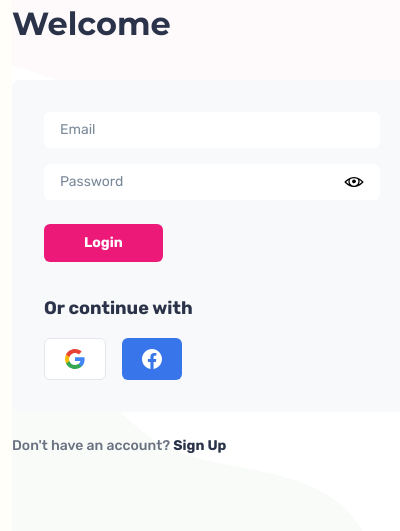
Test: Login Flow › shows alert on invalid credentials
In the field with placeholder "Email": x=212, y=130 x1=44 y1=112 x2=380 y2=148, type "wrong@test.com"
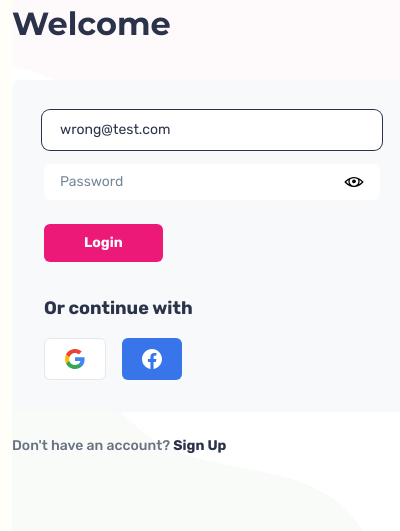
In the password field with placeholder "Password": x=212, y=182 x1=44 y1=164 x2=380 y2=200, type "wrongpass"
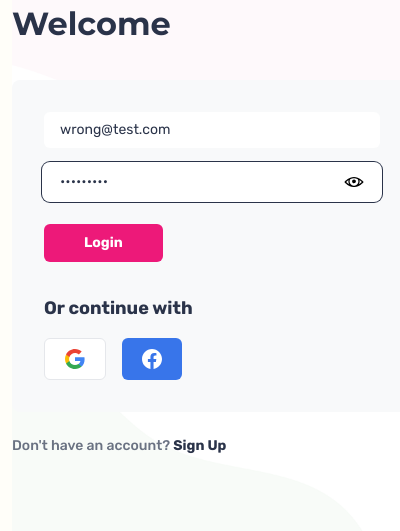
Click the button "Login": x=103, y=243 x1=44 y1=224 x2=163 y2=262
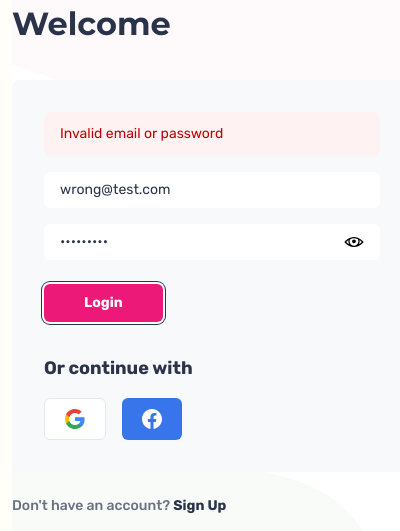
Expected: the message "Invalid email or password" is shown, x1=44 y1=112 x2=380 y2=156
